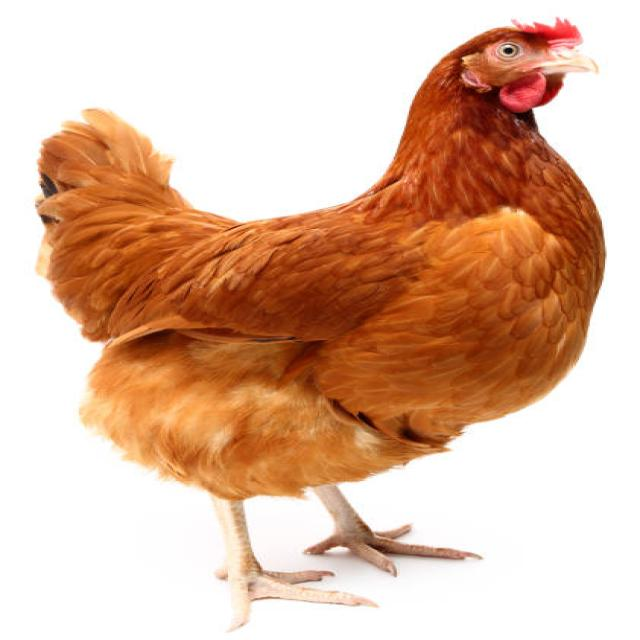Chicken: (18, 15, 630, 640)
